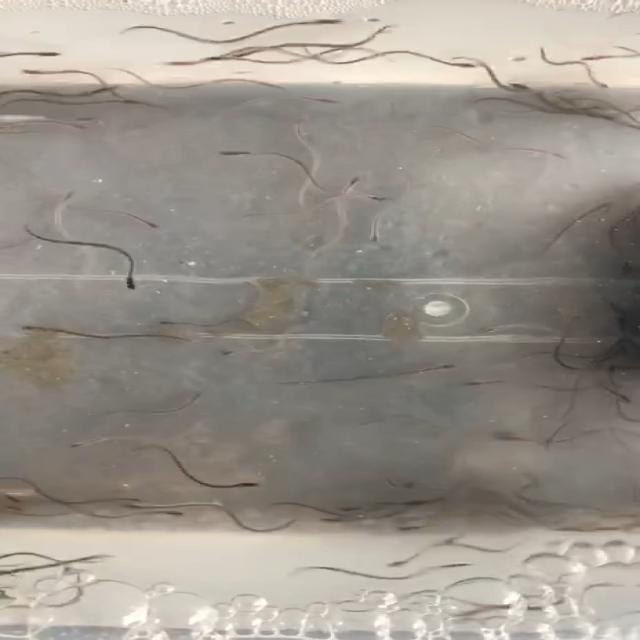active_glass_eel: (381, 474, 422, 493), (344, 189, 389, 206), (211, 147, 265, 161), (489, 430, 536, 446), (439, 55, 483, 70), (152, 55, 200, 68), (126, 214, 165, 230), (55, 189, 83, 211), (388, 523, 426, 539), (68, 436, 111, 450), (303, 93, 349, 106), (340, 174, 367, 196), (430, 360, 466, 376), (301, 12, 345, 25), (479, 324, 526, 336), (8, 67, 50, 80), (531, 145, 570, 159), (380, 555, 414, 571), (84, 84, 129, 96), (319, 514, 360, 527), (499, 78, 532, 94), (574, 51, 617, 63), (140, 507, 182, 519), (462, 376, 503, 388), (52, 121, 92, 133), (582, 110, 622, 122), (328, 502, 368, 514), (432, 558, 472, 570), (586, 200, 614, 217), (18, 324, 57, 336), (434, 531, 465, 546), (108, 95, 141, 109), (58, 112, 98, 123), (616, 260, 640, 278), (150, 316, 183, 329), (363, 229, 388, 246), (116, 276, 146, 290), (29, 47, 63, 59), (0, 494, 34, 506), (0, 502, 31, 515), (602, 360, 627, 376), (224, 479, 259, 490), (122, 500, 154, 512), (611, 392, 636, 407), (223, 345, 260, 355), (202, 51, 230, 64), (584, 77, 612, 90), (178, 392, 204, 404)
